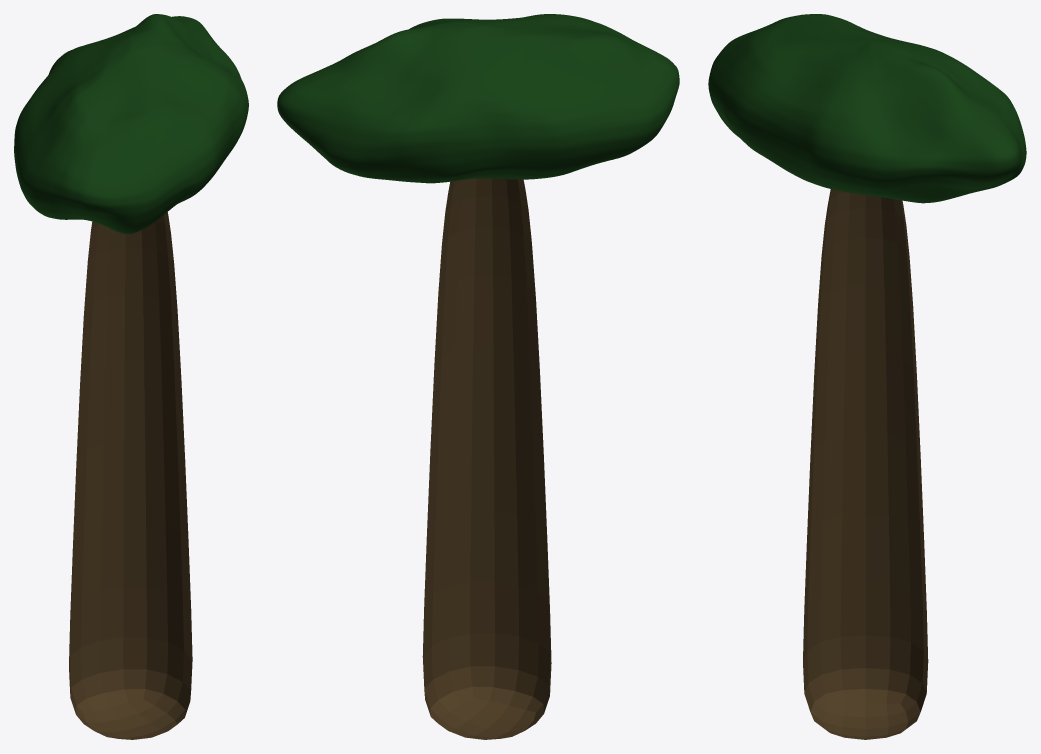
Rendered from baobab3.gltf.
3 renders of one model, left to right at view 1: azimuth 30°, elevation 25°; view 2: azimuth 150°, elevation 25°; view 3: azimuth 270°, elevation 25°, orthographic. The views are drawn at different scales.
Parts seen in each view (by area): view 1: Sphere.001; view 2: Sphere.001; view 3: Sphere.001.
Boxes of the visible parts, x1,y1,x2,y2 form: Sphere.001: (14, 14, 248, 739); Sphere.001: (277, 14, 679, 739); Sphere.001: (708, 14, 1026, 739).
Bounding box in the file's own units: 10.17 × 24.41 × 10.19.
